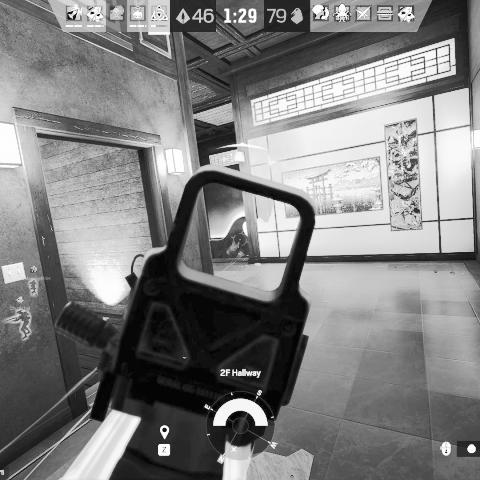Friend_label: (17, 265, 51, 281), (9, 295, 31, 311)
